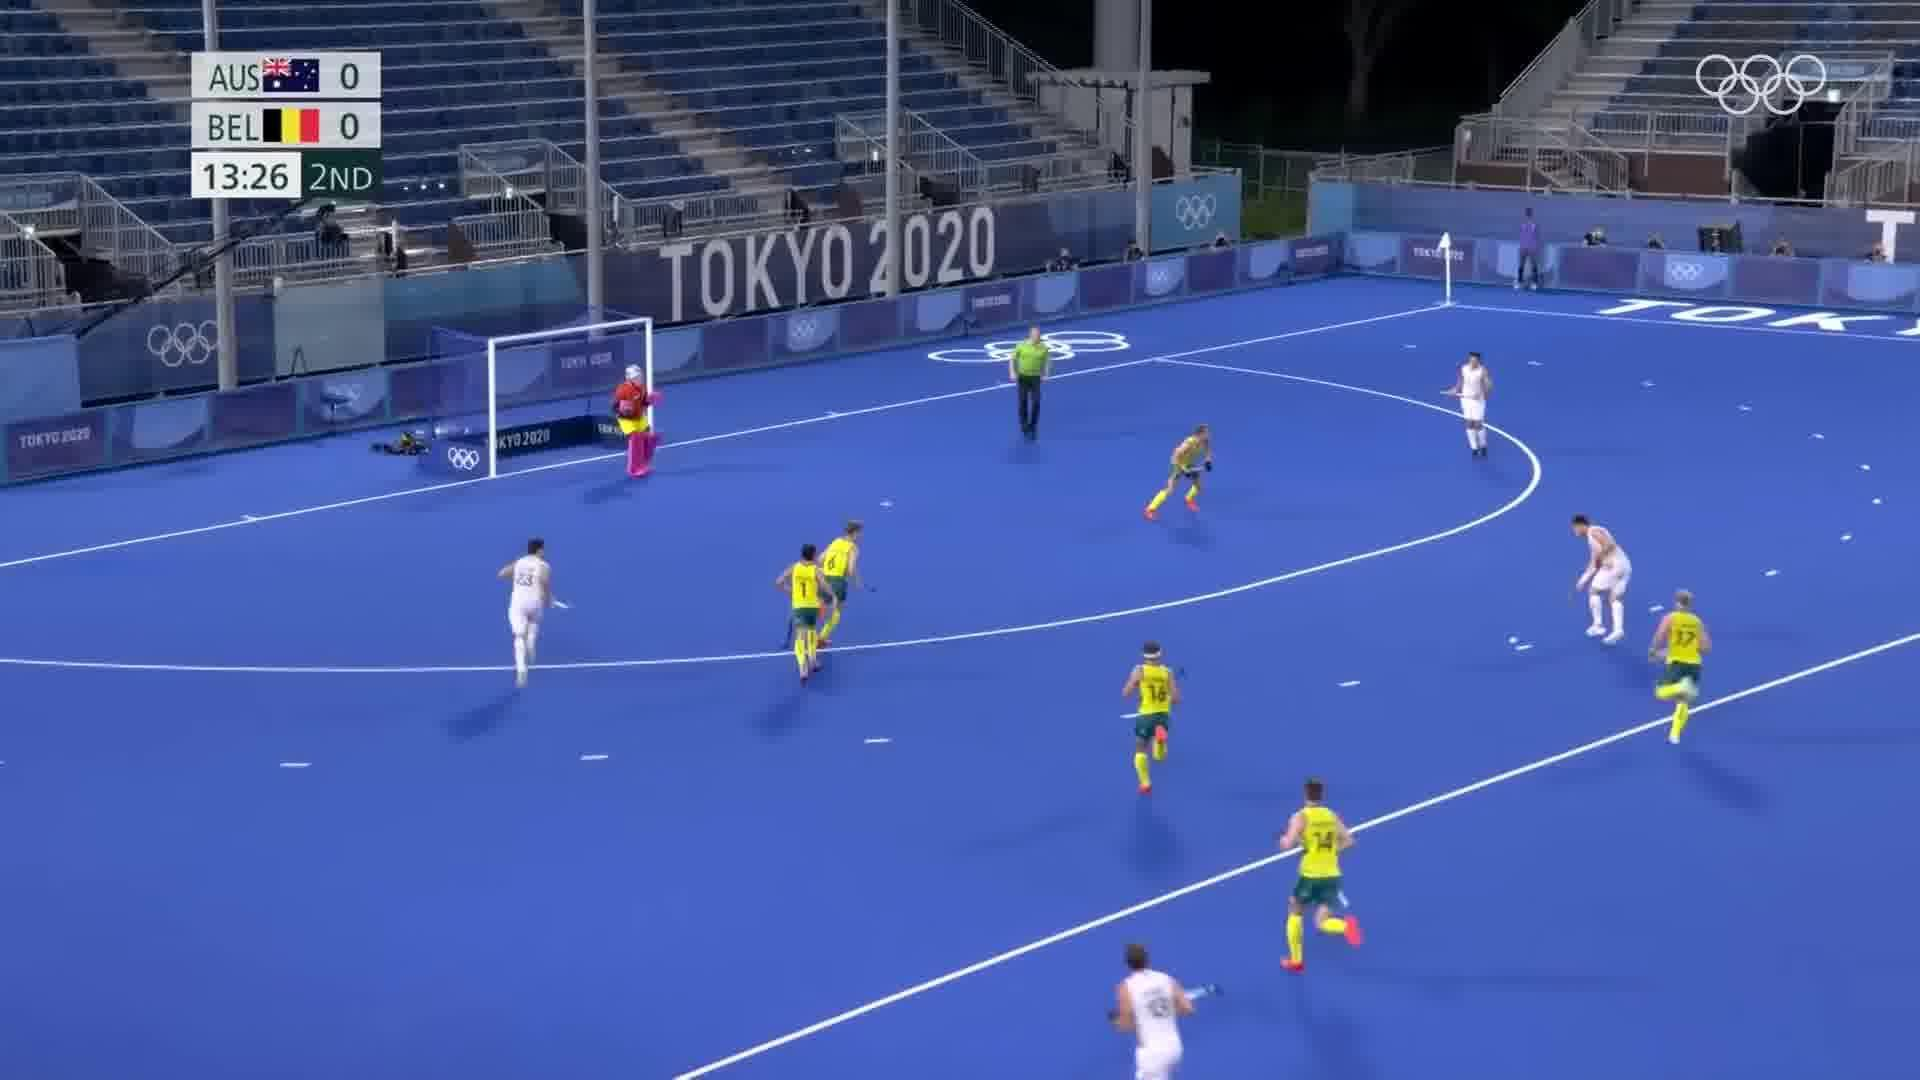ball: (1497, 626, 1527, 646)
